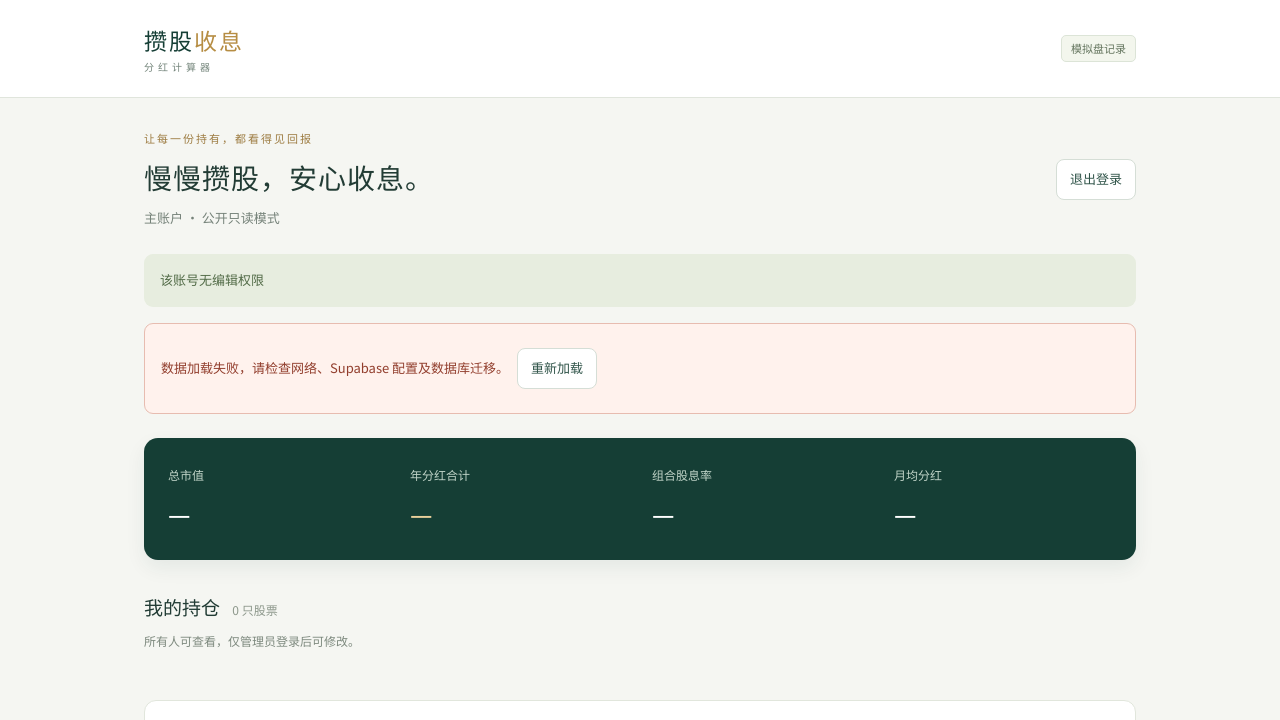
管理员首次读取失败后重新加载成功恢复编辑，不自动保存旧行
Later steps or results of the test are not shown.
Click the button "重新加载" at coordinates (557, 368), box [517, 348, 597, 389]
Wait 1000 ms
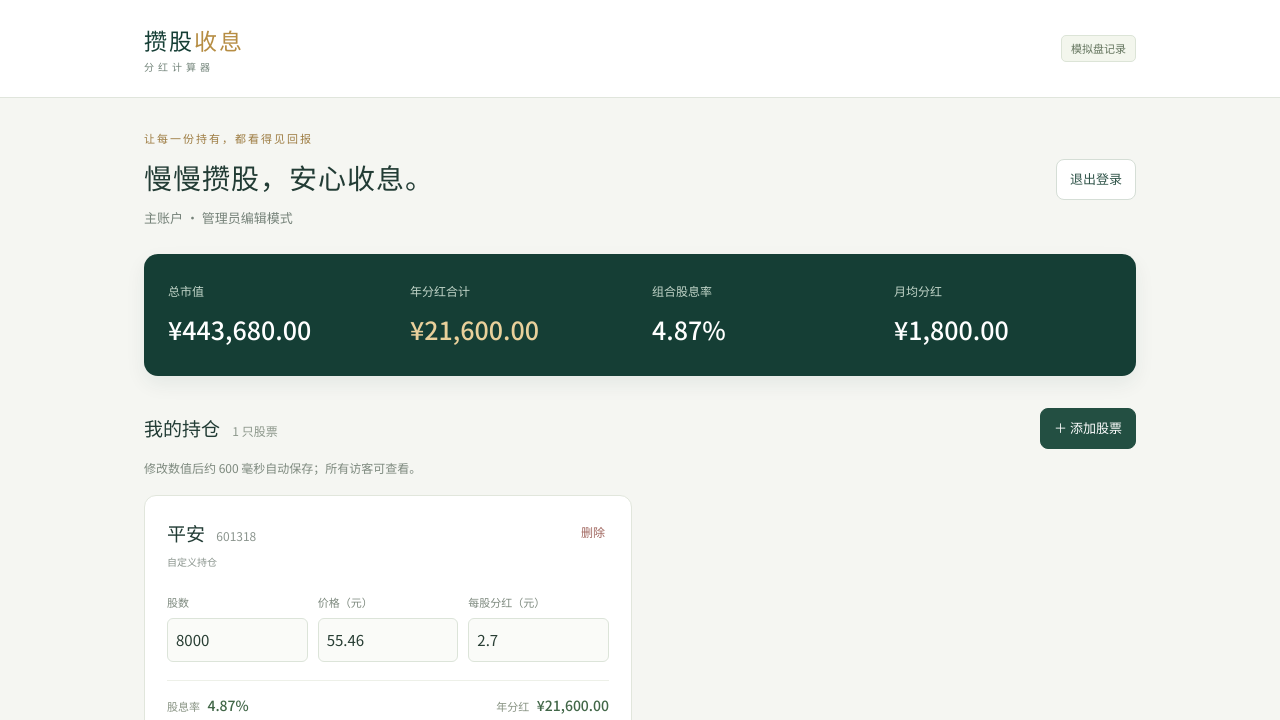
Result: the number field named "平安股数" holds "8000" at [167, 618, 308, 662]
